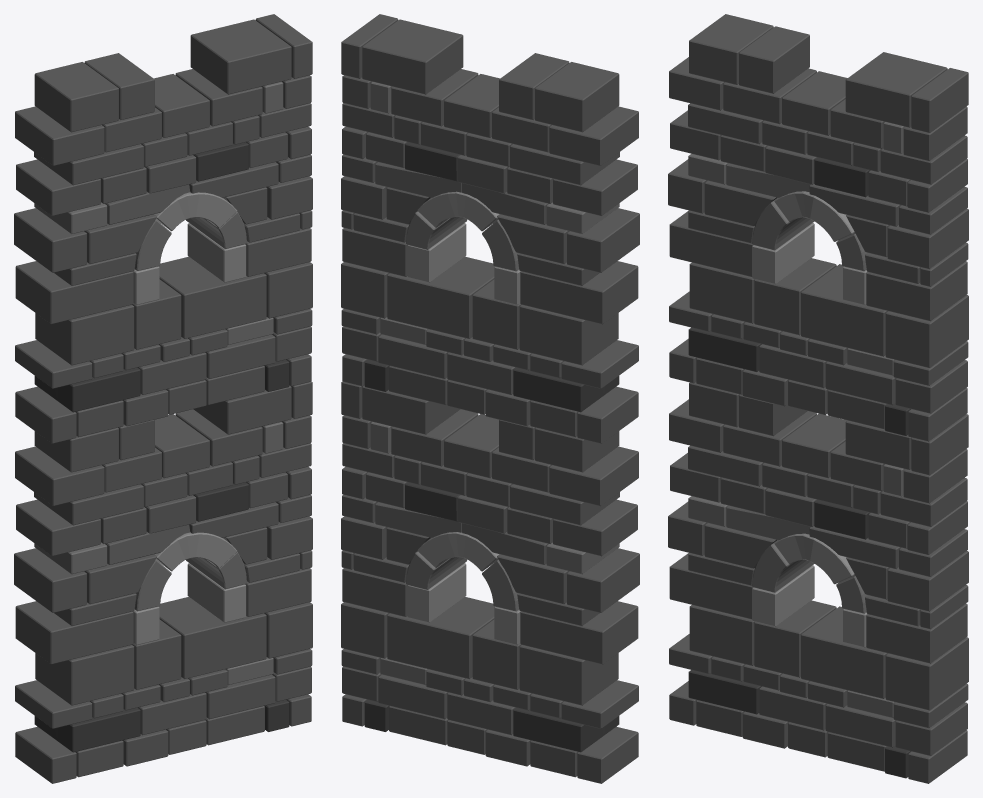
The model's file is wallside_window.fbx.
3 views of the same model, side by side, from view 1: azimuth 30°, elevation 25°; view 2: azimuth 150°, elevation 25°; view 3: azimuth 330°, elevation 25° (orthographic).
Parts seen in each view (by area): view 1: Wall.004, Wall.005; view 2: Wall.004, Wall.005; view 3: Wall.004, Wall.005.
Boxes of the visible parts, x1,y1,x2,y2 form: Wall.004: (14,14,312,443); Wall.005: (14,381,312,783); Wall.004: (341,14,639,443); Wall.005: (341,381,639,783); Wall.004: (668,14,968,441); Wall.005: (668,382,968,783).
Bounding box in the file's own units: 80.07 × 199 × 21.69.
